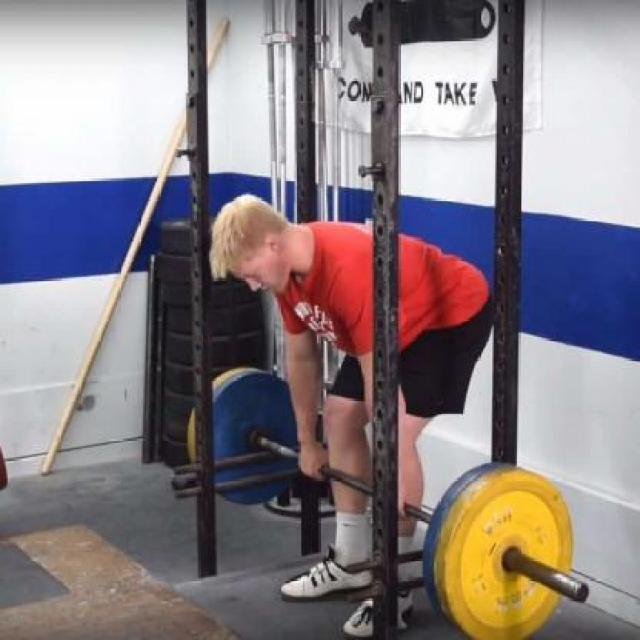Barbell: (573, 578, 593, 607)
